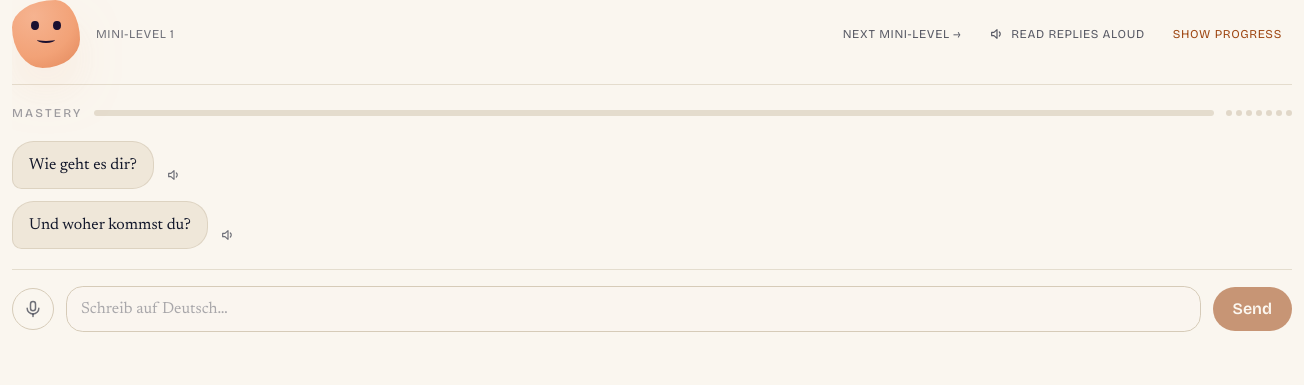
Test: a plan without the AI voice › tells a Premium learner their voice lines are spent, and sells them nothing
Click the button named "read this reply aloud" next to "Wie geht es dir?" at (174, 175), box [160, 161, 188, 189]
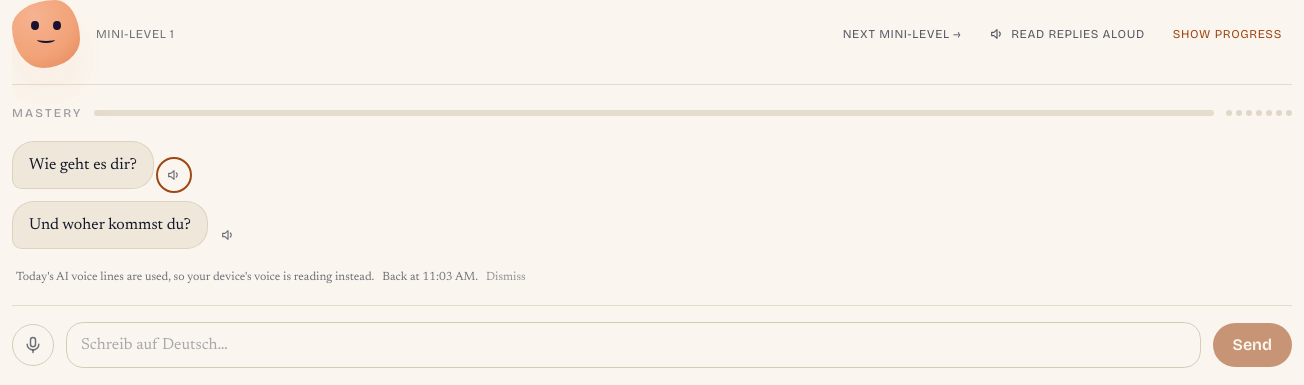
Check: the text "your device's voice" is shown, box [16, 271, 374, 283]
